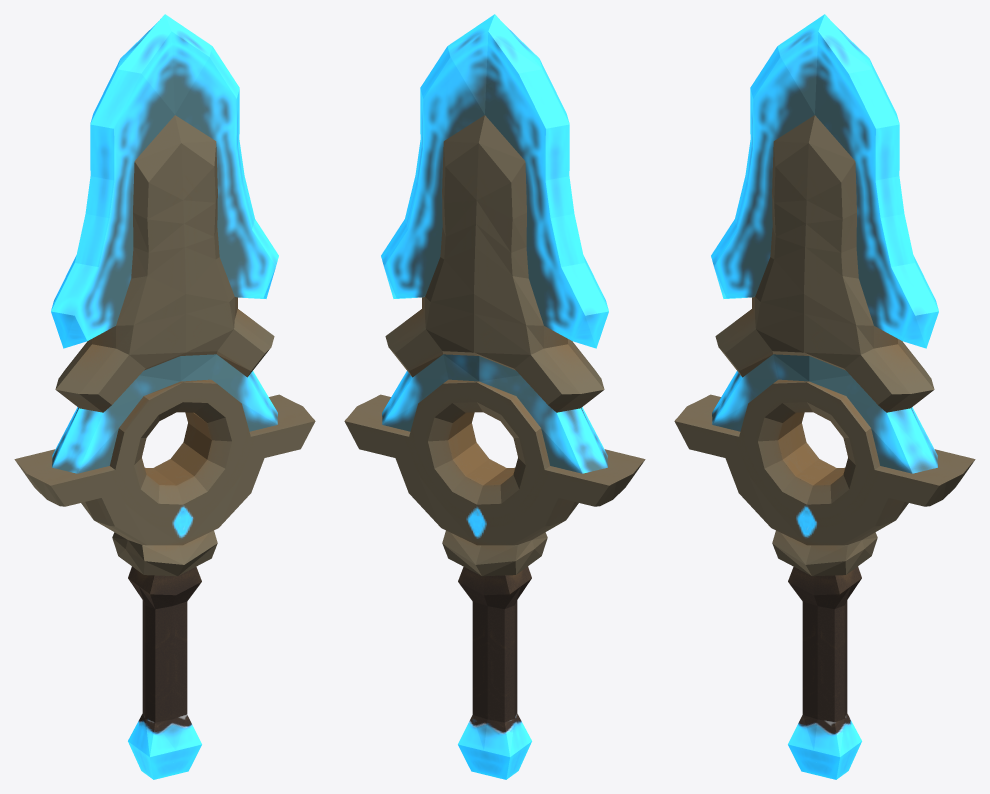
The model's file is Crystal Sword.fbx.
3 views of the same model, side by side, from view 1: azimuth 30°, elevation 25°; view 2: azimuth 150°, elevation 25°; view 3: azimuth 330°, elevation 25° (orthographic).
Visible parts, largest first — view 1: Crystal_Sword; view 2: Crystal_Sword; view 3: Crystal_Sword.
Boxes of the visible parts, bbox=[...] form: Crystal_Sword: bbox=[14, 14, 315, 779]; Crystal_Sword: bbox=[344, 14, 645, 779]; Crystal_Sword: bbox=[674, 14, 975, 779].
Bounding box in the file's own units: 83.32 × 218 × 22.01.
